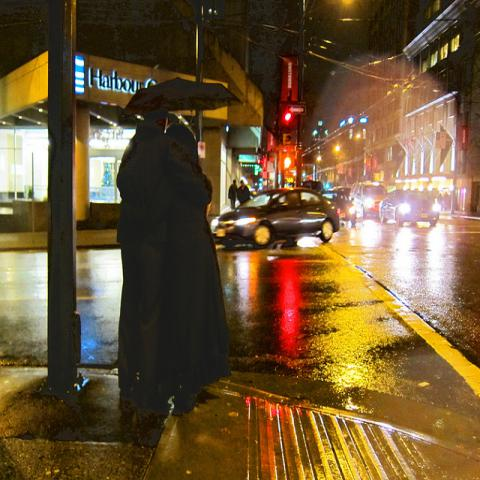car: (210, 187, 340, 250), (379, 189, 440, 227), (348, 182, 388, 221), (322, 191, 357, 225), (299, 179, 326, 197), (337, 186, 351, 197)
